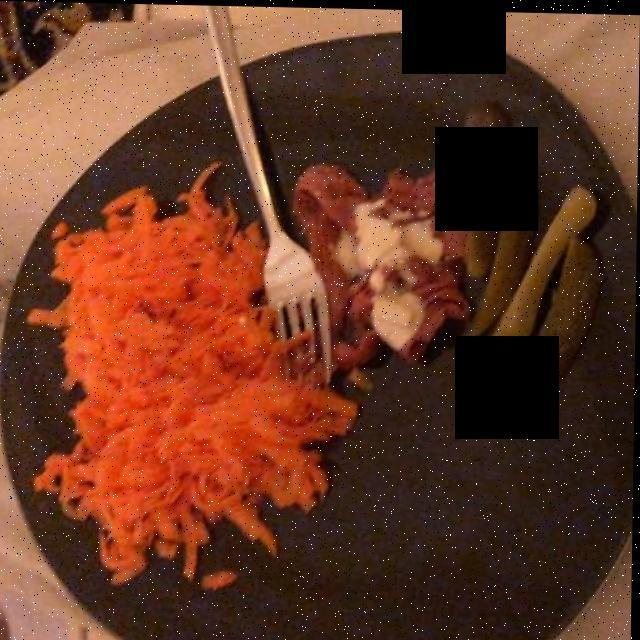carrot: (47, 178, 352, 576)
cucumber-pickled: (459, 97, 599, 371)
